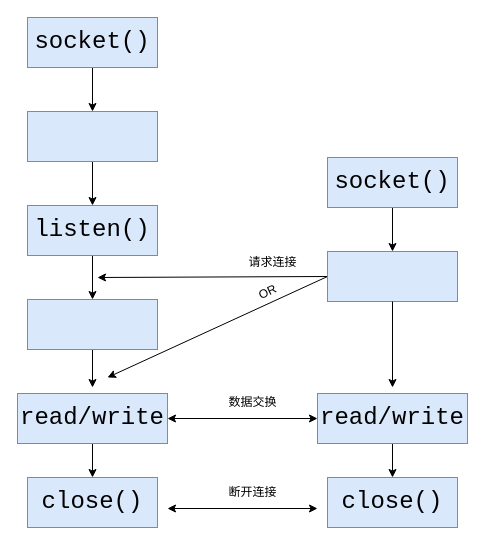
The diagram is 485 pixels wide and 545 high, and some of its shapes have lost their labels. Each missing label, with the box of its shape:
accept(): (26, 298, 158, 350)
bind(): (26, 110, 158, 162)
connect(): (326, 250, 458, 302)
